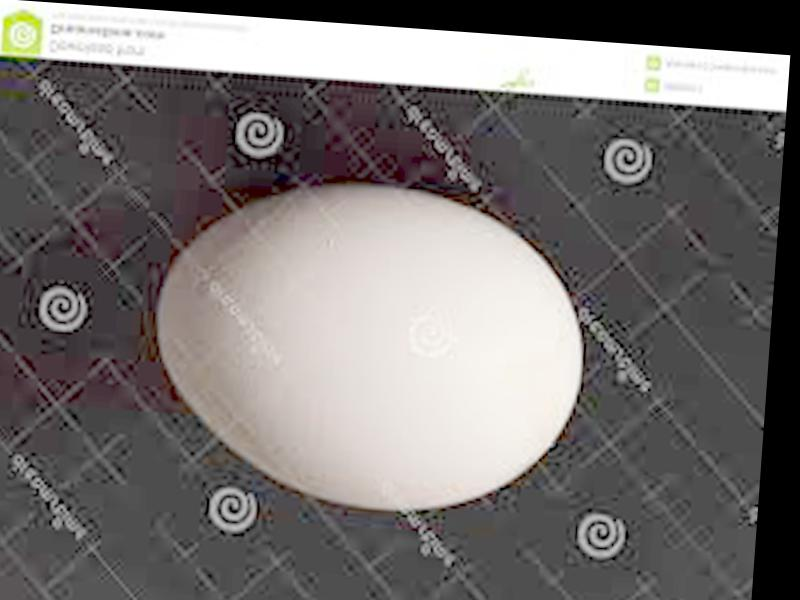Eggs: (144, 172, 596, 522)
